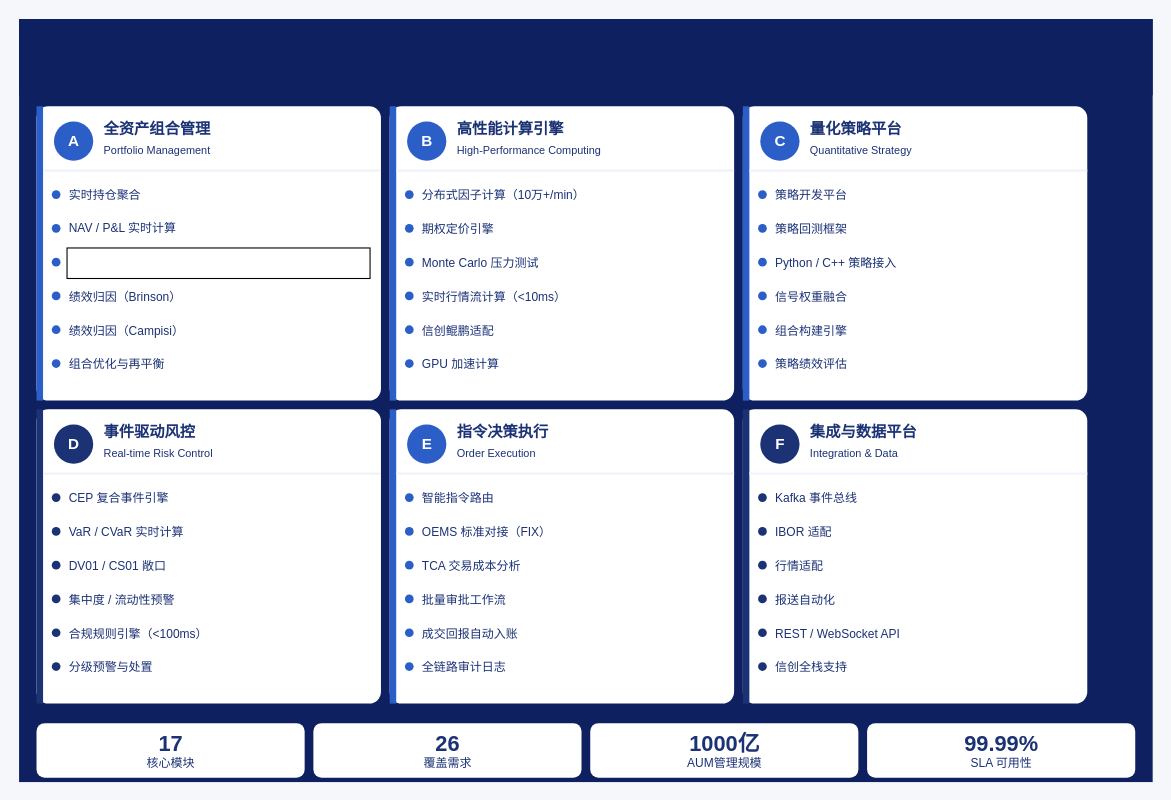
The diagram is 1171 pixels wide and 800 high, and some of its shapes have lost their labels. Here are the shapes that lost their labels. From the top down, the centre of each, then its label:
(585,57): POMS 平台能力全景图 六大能力域 · 17 核心模块 · 覆盖投资全链路
(218,262): 多账户统一视图
